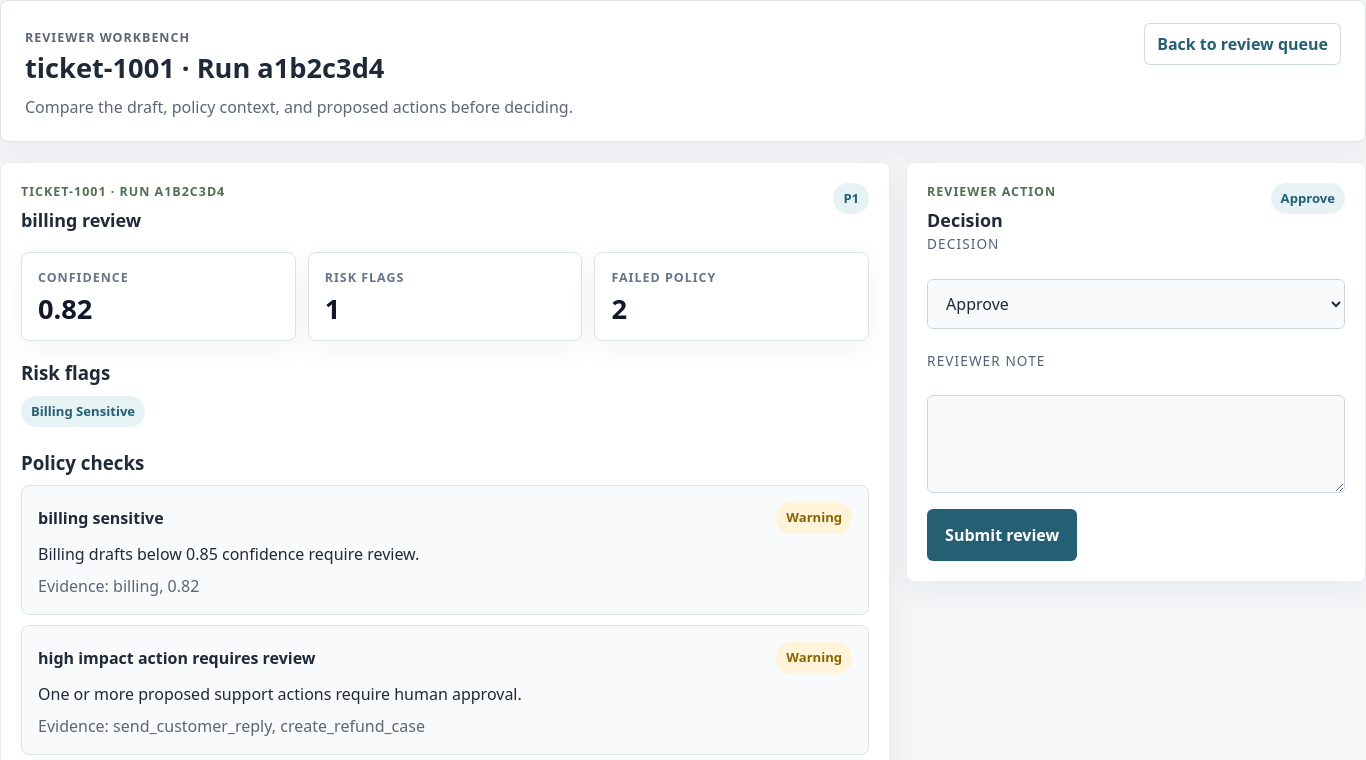
Scenario: Review routes › submits a reviewer decision from the review detail route
The width and height of the screenshot is (1366, 760).
What coordinates should you click on to do the following:
click the button "Submit review"
I would click on:
 (1002, 535)
Its box is [927, 509, 1077, 561].
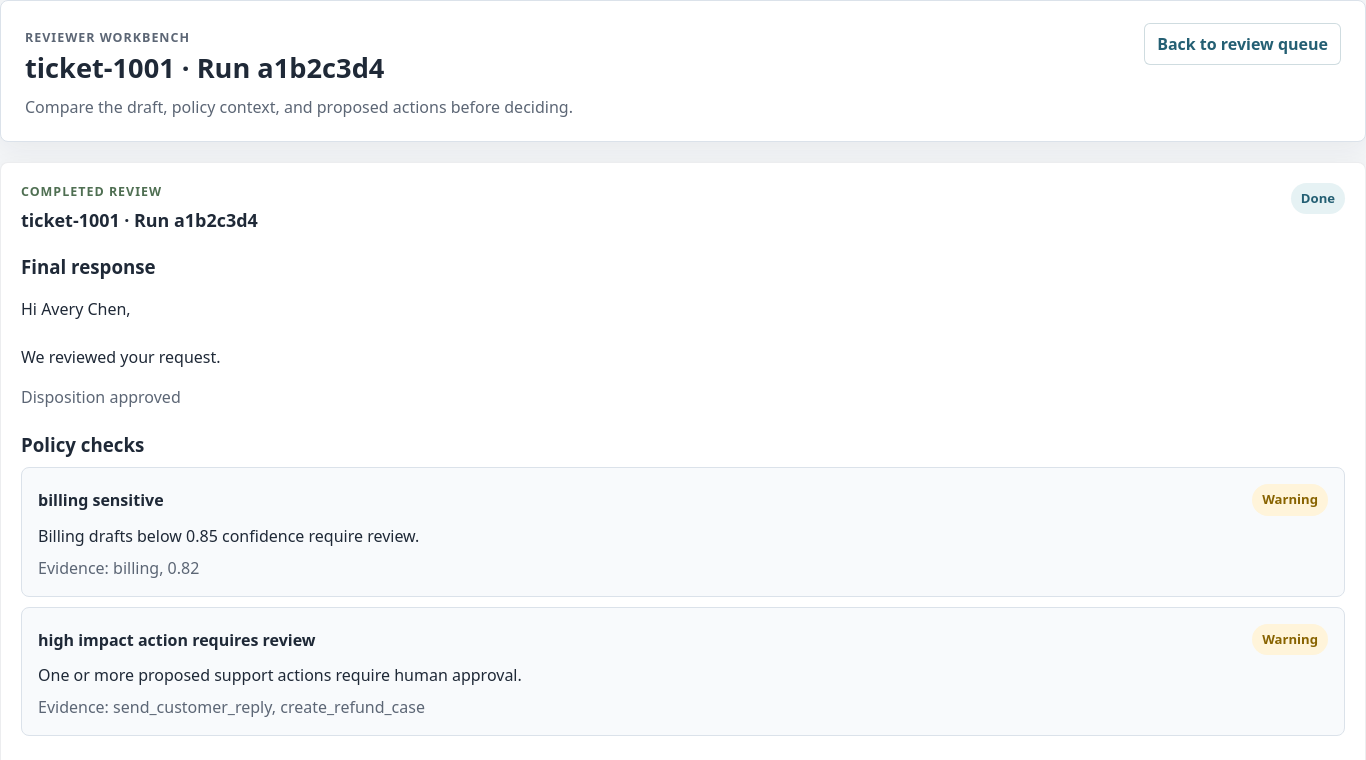
Result: the text "Completed review" is shown at [21, 182, 162, 200]
Result: the text "Disposition approved" is shown at [21, 386, 181, 408]
